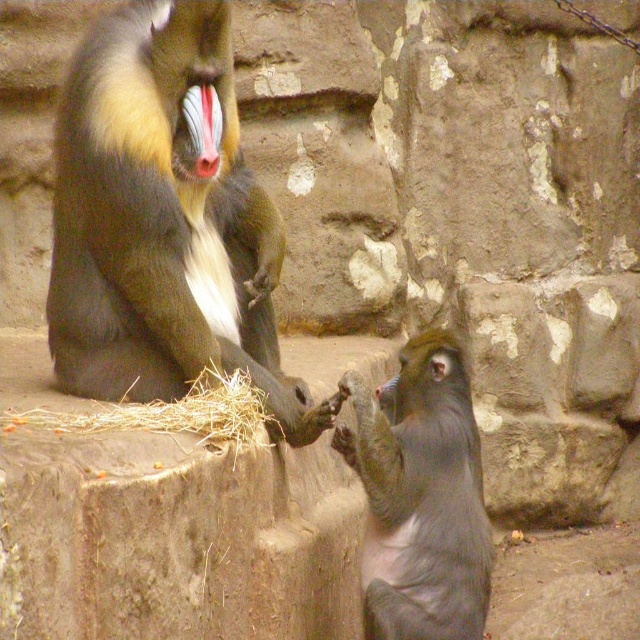Monkey: (33, 0, 298, 444), (326, 326, 506, 635)
